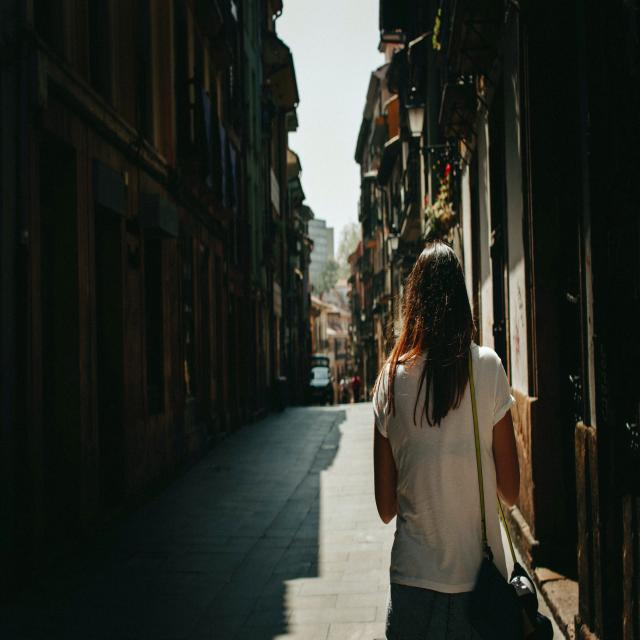adult: (372, 244, 520, 640)
